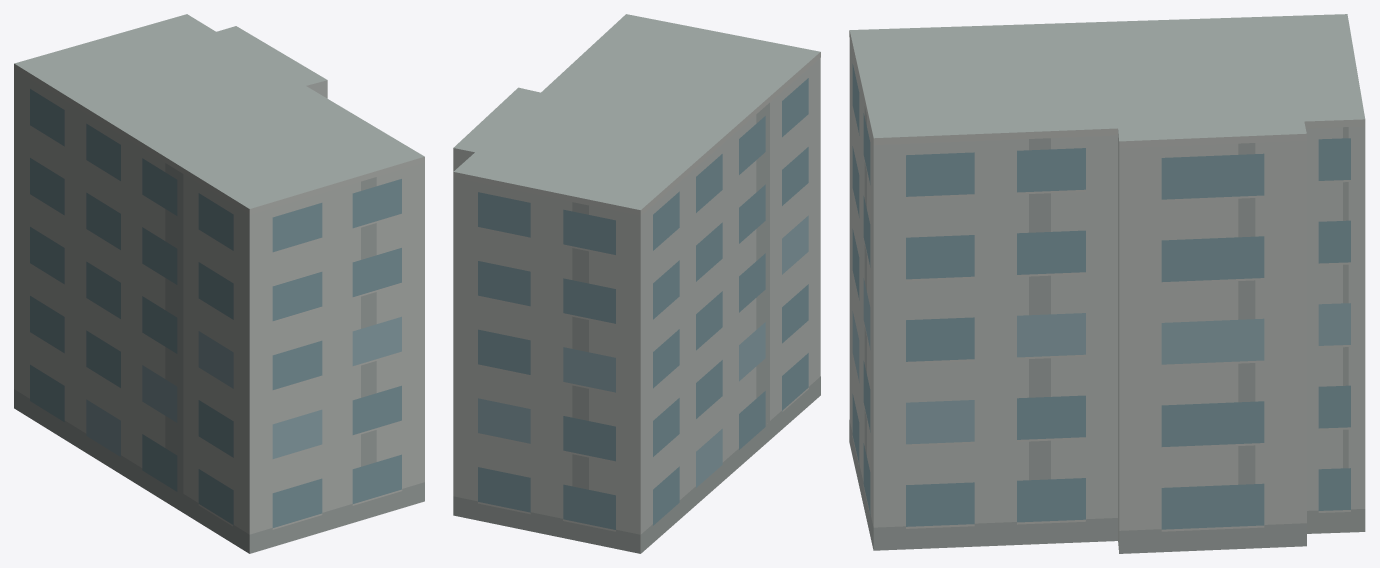
The model's file is survey-upis-32884532.glb.
3 renders of one model, left to right at view 1: azimuth 30°, elevation 25°; view 2: azimuth 150°, elevation 25°; view 3: azimuth 270°, elevation 25°, orthographic. The views are drawn at different scales.
Visible parts, largest first — view 1: survey-upis-32884532.tmp; view 2: survey-upis-32884532.tmp; view 3: survey-upis-32884532.tmp.
Part boxes in pixels (x1,y1,x2,y2): survey-upis-32884532.tmp: (14, 14, 424, 553); survey-upis-32884532.tmp: (453, 14, 820, 553); survey-upis-32884532.tmp: (849, 14, 1365, 553).
Bounding box in the file's own units: 9.45 × 14.25 × 16.16.
